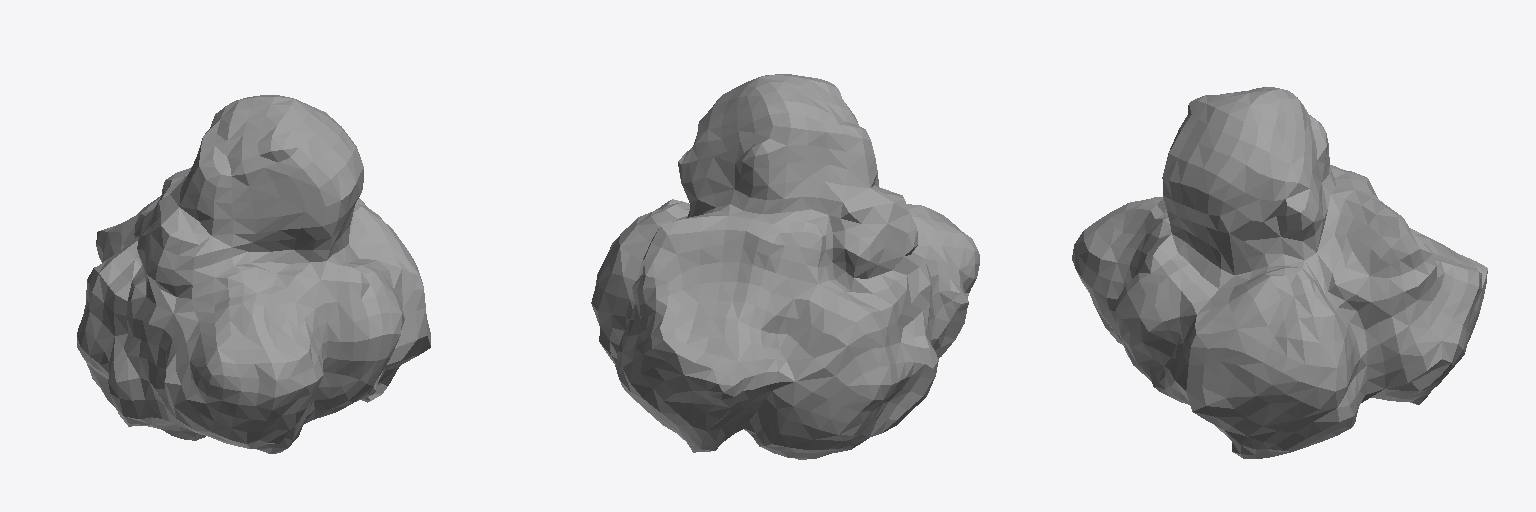
The model's file is Boulder.obj.
3 renders of one model, left to right at view 1: azimuth 30°, elevation 25°; view 2: azimuth 150°, elevation 25°; view 3: azimuth 270°, elevation 25°, orthographic.
Parts seen in each view (by area): view 1: Rock_10.031; view 2: Rock_10.031; view 3: Rock_10.031.
Part boxes in pixels (bbox=[...]): Rock_10.031: bbox=[77, 95, 430, 453]; Rock_10.031: bbox=[591, 74, 979, 459]; Rock_10.031: bbox=[1072, 87, 1487, 458].
Size of the model in its own units: 4.84 by 4.86 by 5.57.